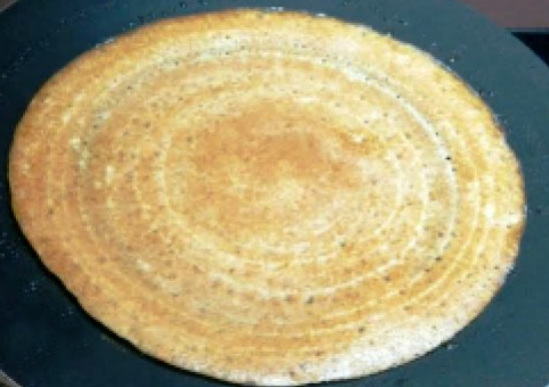dosa: (8, 11, 531, 387)
